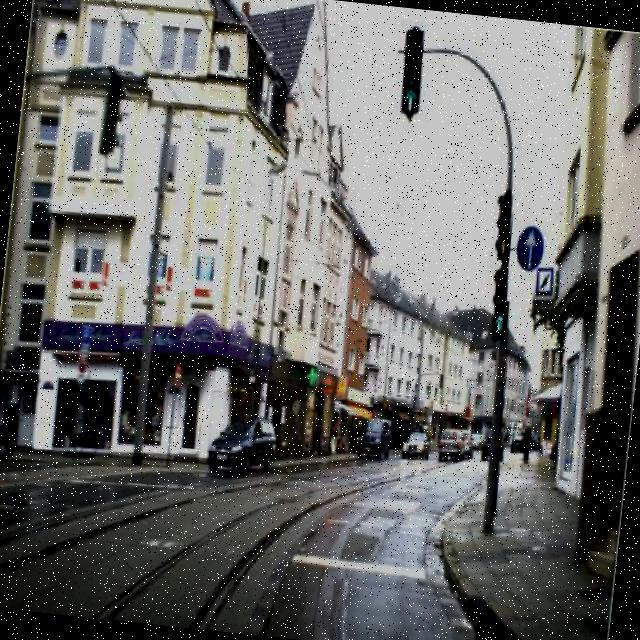Zakaz wjazdu: (170, 359, 186, 388)
